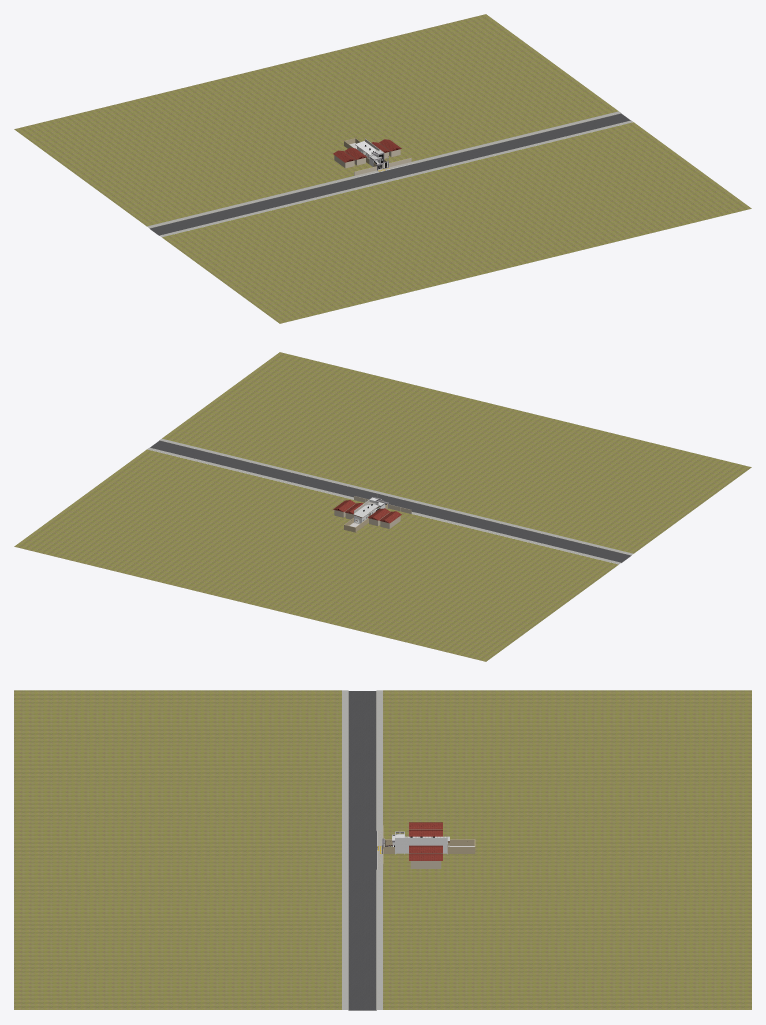
Rendered from casa3d-madeira-blindex.glb.
3 renders of one model, top to bottom at view 1: azimuth 30°, elevation 25°; view 2: azimuth 150°, elevation 25°; view 3: azimuth 270°, elevation 25°, orthographic. The views are drawn at different scales.
Parts seen in each view (by area): view 1: C_entorno_terra, C_entorno_asfalto, C_entorno_calcada, C_entorno_meiofio, C_entorno_telha, C_entorno_reboco_bege; view 2: C_entorno_terra, C_entorno_asfalto, C_entorno_calcada, C_entorno_meiofio, C_entorno_telha, C_entorno_reboco_bege; view 3: C_entorno_terra, C_entorno_asfalto, C_entorno_calcada, C_entorno_telha, C_M3834228_60_60_62_0, C_entorno_meiofio, C_M2361364_245_245_245_0, C_M3950457_204_185_151_0.
Boxes of the visible parts, x1,y1,x2,y2 form: C_entorno_terra: [14, 14, 751, 323]; C_entorno_asfalto: [150, 113, 630, 235]; C_entorno_calcada: [147, 111, 633, 237]; C_entorno_meiofio: [149, 113, 631, 235]; C_entorno_telha: [333, 139, 401, 162]; C_entorno_reboco_bege: [334, 144, 411, 175]; C_entorno_terra: [14, 352, 751, 661]; C_entorno_asfalto: [150, 440, 630, 562]; C_entorno_calcada: [147, 438, 633, 564]; C_entorno_meiofio: [151, 440, 631, 562]; C_entorno_telha: [333, 500, 401, 523]; C_entorno_reboco_bege: [334, 496, 411, 528]; C_entorno_terra: [14, 690, 751, 1009]; C_entorno_asfalto: [348, 691, 376, 1010]; C_entorno_calcada: [342, 690, 382, 1009]; C_entorno_telha: [409, 822, 442, 860]; C_M3834228_60_60_62_0: [353, 831, 376, 870]; C_entorno_meiofio: [348, 690, 376, 1010]; C_M2361364_245_245_245_0: [392, 836, 447, 854]; C_M3950457_204_185_151_0: [383, 839, 475, 853].
Size of the model in its own units: 246 by 8.5 by 240.
331 materials, 139 textured.
